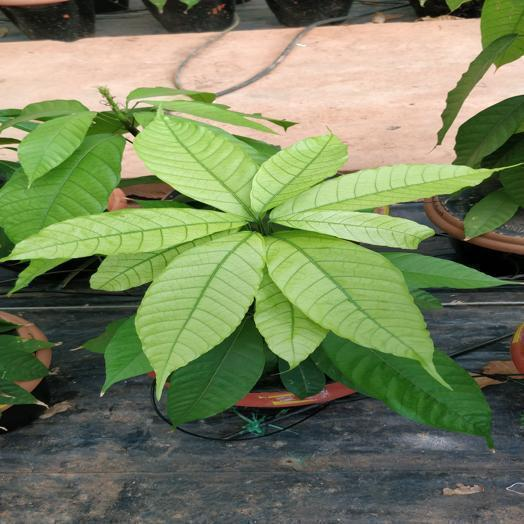Healthy Leaf: (314, 333, 491, 443), (0, 135, 123, 242), (167, 316, 264, 425), (19, 112, 94, 186), (454, 95, 523, 166), (0, 321, 51, 416), (381, 252, 505, 288), (146, 100, 273, 132), (102, 317, 151, 393), (0, 100, 88, 130), (280, 359, 324, 398)
Iron: (265, 230, 447, 386), (136, 231, 261, 393), (135, 111, 256, 221), (270, 164, 491, 220), (8, 208, 246, 258), (90, 232, 226, 290), (251, 134, 346, 214), (256, 271, 326, 368), (273, 209, 433, 248)
